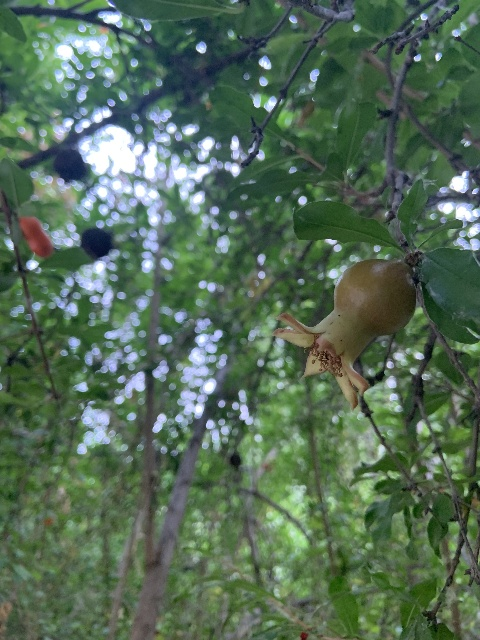bud: (18, 215, 54, 258)
early-fruit: (272, 257, 416, 411)
